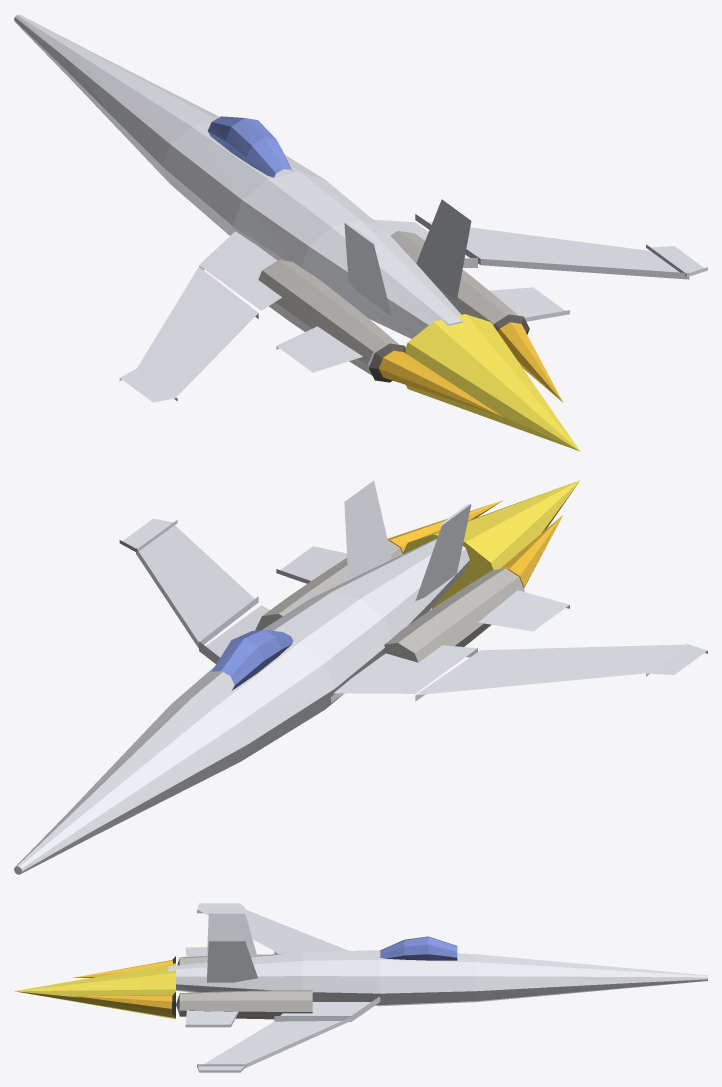
The model's file is f14_player.glb.
The picture shows the model from 3 angles, top to bottom: view 1: azimuth 30°, elevation 25°; view 2: azimuth 150°, elevation 25°; view 3: azimuth 270°, elevation 25°; orthographic projection. The views are drawn at different scales.
Parts seen in each view (by area): view 1: Fuselage, LeftWing, CentralFlame, RightWing, LeftNacelle, RightVTail, Canopy, RightNacelle, LeftFlame, LeftVTail, LeftHStab, RightFlame (+1 smaller); view 2: Fuselage, LeftWing, RightWing, CentralFlame, LeftNacelle, RightVTail, Canopy, LeftVTail, LeftHStab, RightNacelle, RightHStab, LeftFlame (+1 smaller); view 3: Fuselage, RightWing, CentralFlame, RightNacelle, LeftWing, RightVTail, Canopy, LeftVTail, RightFlame, RightHStab, LeftFlame.
Boxes of the visible parts, x1,y1,x2,y2 form: Fuselage: (14,14,463,338); LeftWing: (119,231,281,402); CentralFlame: (405,314,580,451); RightWing: (373,214,707,279); LeftNacelle: (258,260,399,375); RightVTail: (416,199,471,300); Canopy: (208,116,292,177); RightNacelle: (390,231,523,328); LeftFlame: (378,350,503,417); LeftVTail: (344,222,391,316); LeftHStab: (276,326,362,372); RightFlame: (498,322,562,402); Fuselage: (14,538,469,874); LeftWing: (331,643,707,702); RightWing: (119,518,269,663); CentralFlame: (403,480,580,608); LeftNacelle: (381,568,524,662); RightVTail: (344,480,391,580); Canopy: (212,629,293,690); LeftVTail: (415,503,471,600); LeftHStab: (478,590,569,631); RightNacelle: (255,540,402,630); RightHStab: (276,546,347,583); LeftFlame: (500,515,562,587); Fuselage: (168,950,707,1006); RightWing: (197,996,380,1072); CentralFlame: (15,963,175,1019); RightNacelle: (176,990,312,1019); LeftWing: (197,903,350,954); RightVTail: (206,941,257,982); Canopy: (380,936,457,960); LeftVTail: (207,913,257,962); RightFlame: (73,995,172,1013); RightHStab: (185,1009,239,1027); LeftFlame: (72,960,172,977).
Bounding box in the file's own units: 4.1 × 0.9963 × 7.2.
